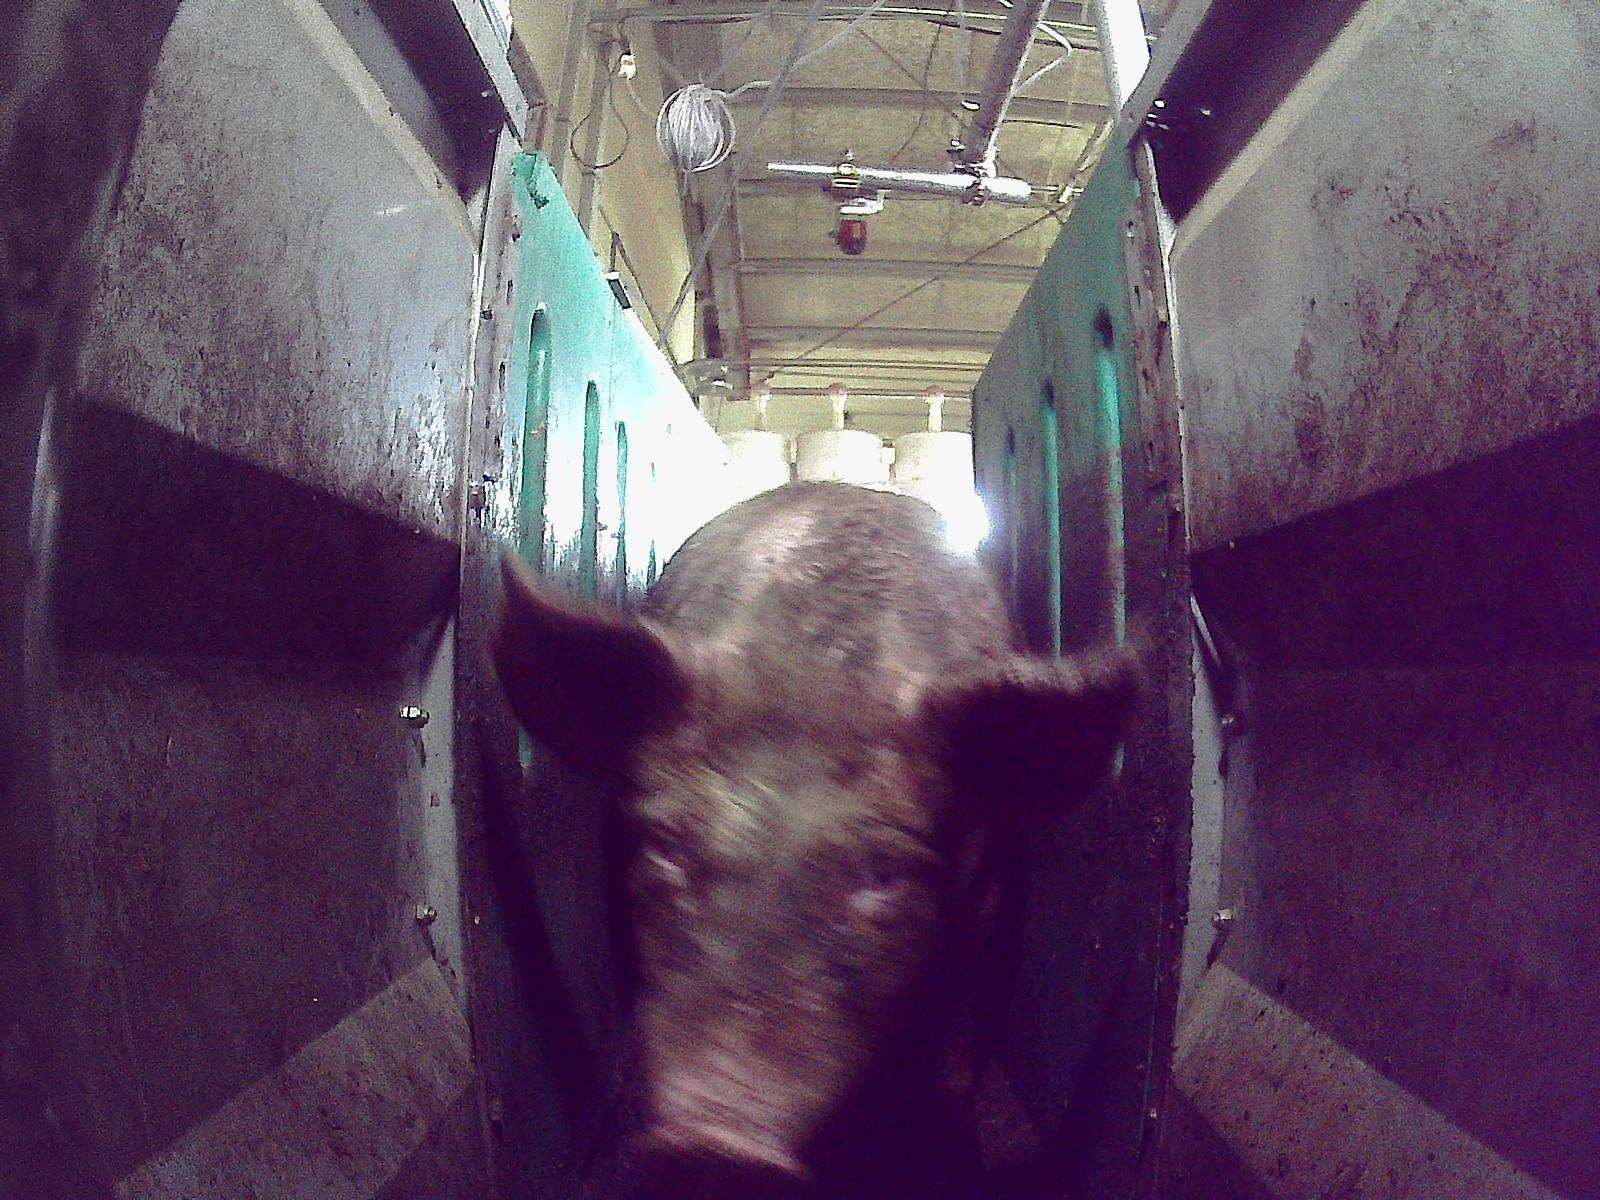Face: (613, 665, 970, 1199)
